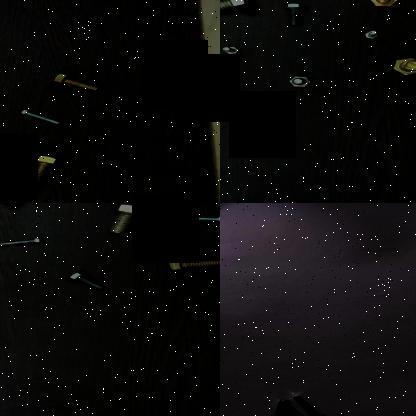Bolts: (104, 203, 151, 239), (22, 152, 64, 192), (160, 254, 220, 276), (58, 270, 115, 292), (45, 71, 101, 93), (0, 229, 55, 251), (275, 0, 311, 30), (12, 106, 64, 126), (291, 394, 335, 416), (220, 0, 258, 18), (176, 212, 220, 226), (262, 397, 294, 416), (387, 55, 416, 75), (363, 0, 402, 14), (286, 72, 314, 90), (358, 27, 383, 43), (220, 44, 242, 56)
